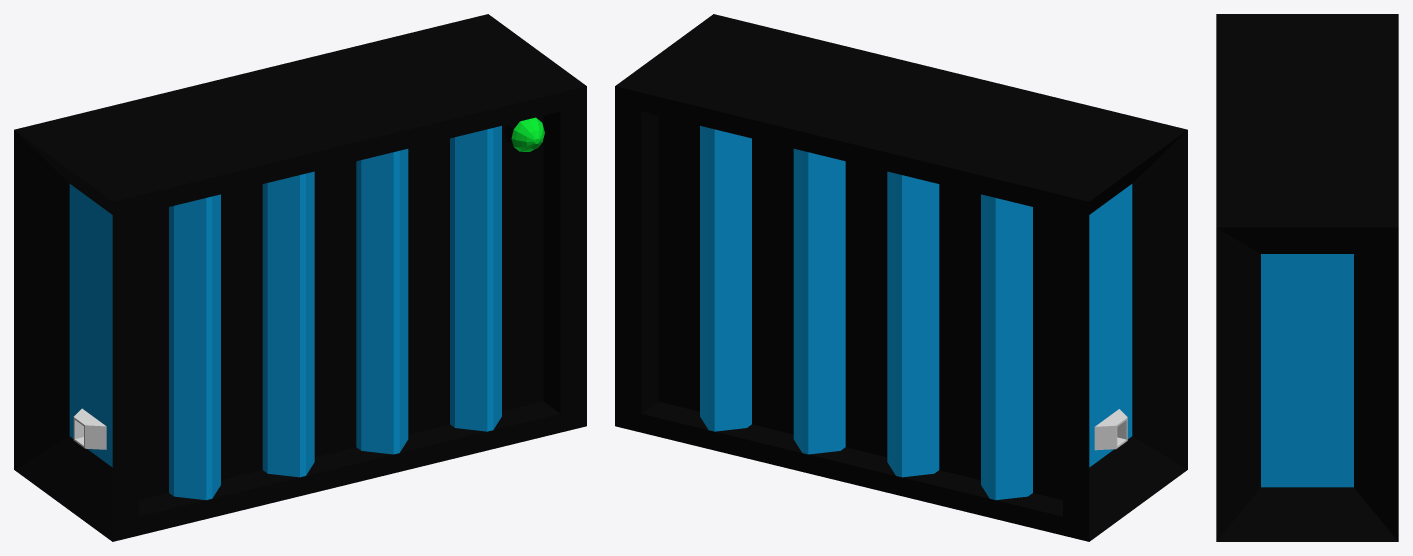
Rendered from Battery.fbx.
3 renders of one model, left to right at view 1: azimuth 30°, elevation 25°; view 2: azimuth 150°, elevation 25°; view 3: azimuth 270°, elevation 25°, orthographic. The views are drawn at different scales.
Parts seen in each view (by area): view 1: Battery, Cylinder, Wire Plug.001; view 2: Battery, Wire Plug.001; view 3: Battery.
Boxes of the visible parts, x1,y1,x2,y2 form: Battery: [14, 14, 586, 541]; Cylinder: [504, 117, 544, 151]; Wire Plug.001: [73, 408, 106, 449]; Battery: [615, 14, 1187, 541]; Wire Plug.001: [1094, 409, 1127, 450]; Battery: [1216, 14, 1398, 541].
Size of the model in its own units: 653 by 447 by 235.
